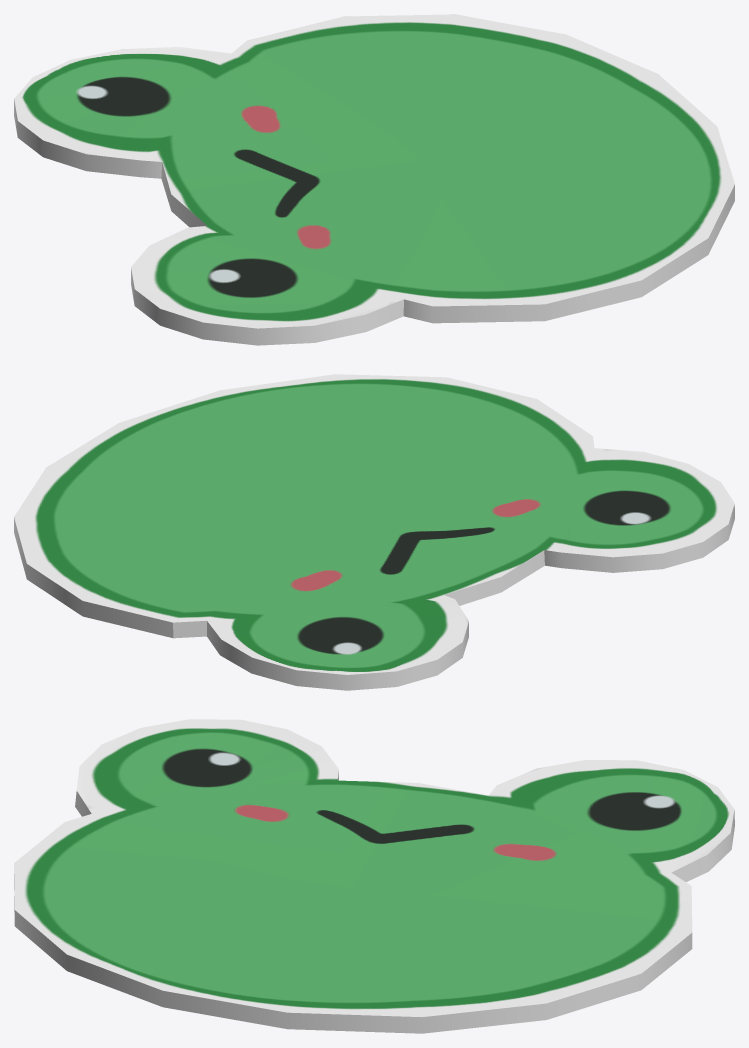
The model's file is Mesh_Sticker_2.fbx.
3 renders of one model, top to bottom at view 1: azimuth 30°, elevation 25°; view 2: azimuth 150°, elevation 25°; view 3: azimuth 270°, elevation 25°, orthographic. The views are drawn at different scales.
Visible parts, largest first — view 1: polySurface45; view 2: polySurface45; view 3: polySurface45.
Boxes of the visible parts, <box> form: polySurface45: <box>14,14,734,345</box>; polySurface45: <box>14,374,734,690</box>; polySurface45: <box>14,719,734,1033</box>.
Bounding box in the file's own units: 19.17 × 0.5719 × 19.75.
